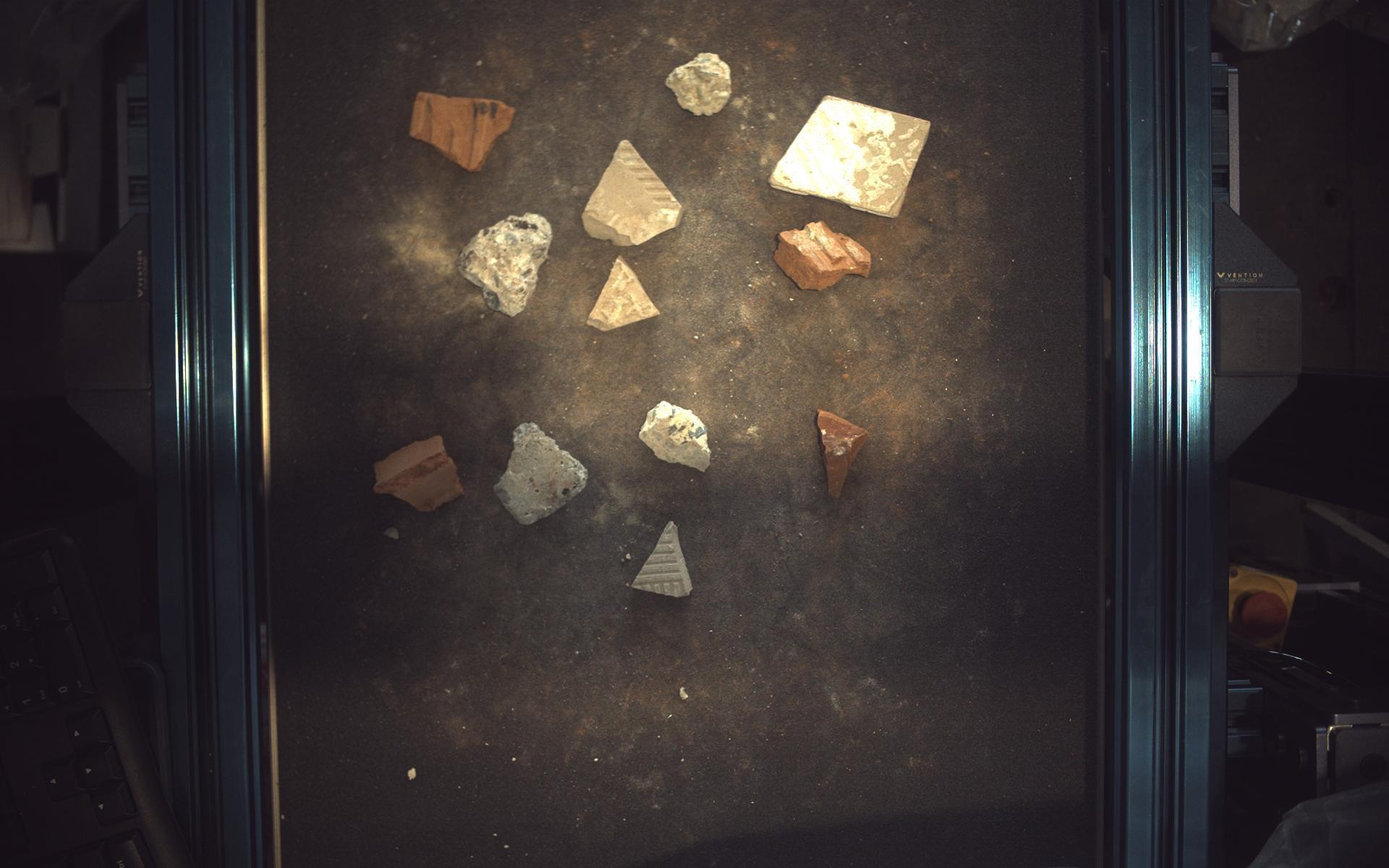brick: (409, 91, 514, 171), (374, 435, 463, 512), (776, 221, 873, 289), (818, 409, 870, 498)
concrete: (456, 213, 553, 316), (495, 422, 589, 525), (640, 401, 712, 472), (666, 51, 732, 114)
tile: (770, 95, 932, 217), (583, 138, 684, 245), (587, 256, 660, 331), (633, 522, 693, 597)
